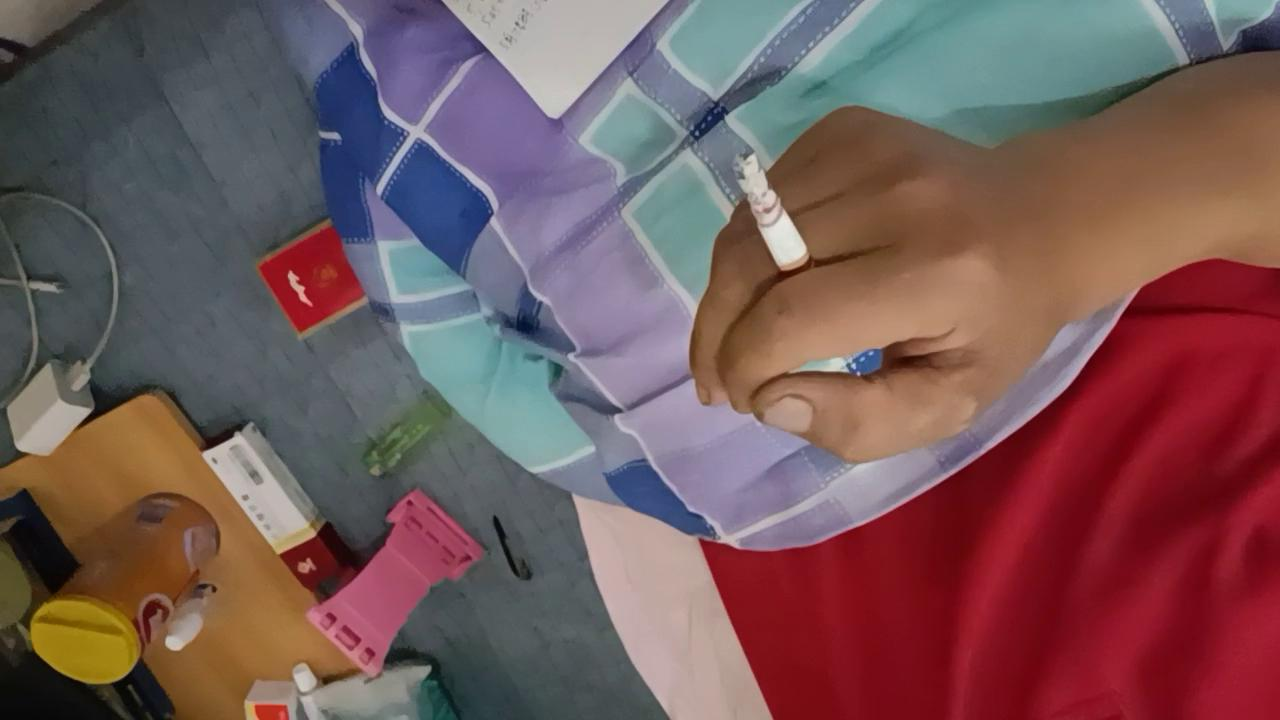smoke: (733, 150, 829, 302)
